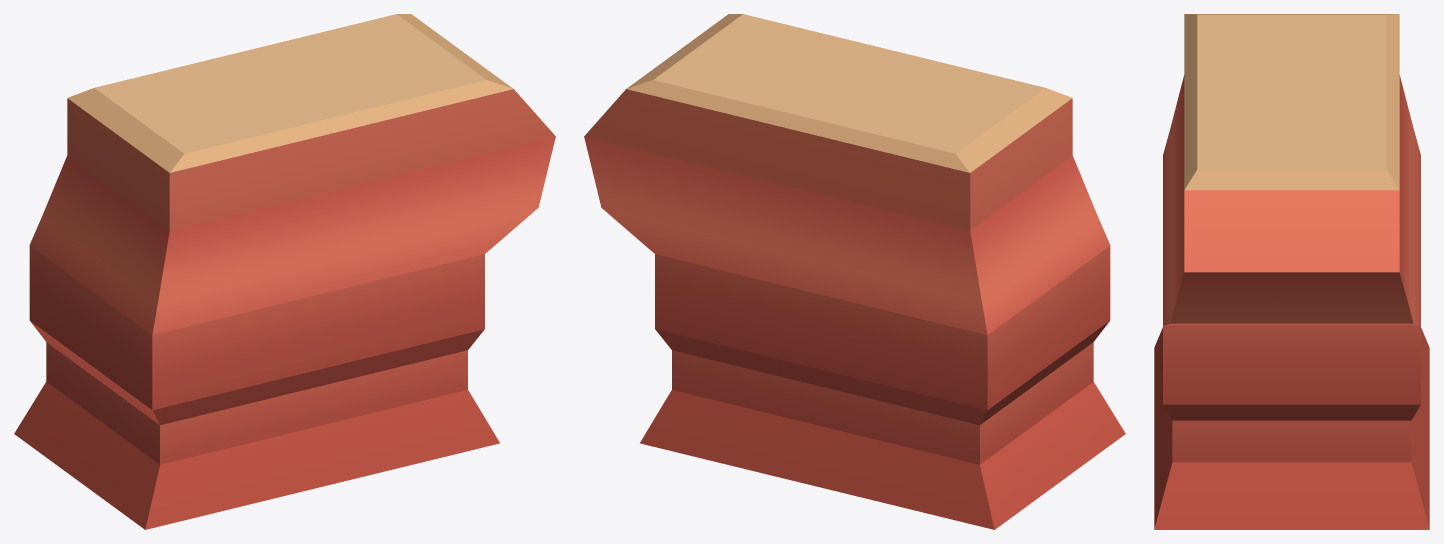
The model's file is StoneWall019.fbx.
The picture shows the model from 3 angles, left to right: view 1: azimuth 30°, elevation 25°; view 2: azimuth 150°, elevation 25°; view 3: azimuth 270°, elevation 25°; orthographic projection. The views are drawn at different scales.
Visible parts, largest first — view 1: StoneWall019; view 2: StoneWall019; view 3: StoneWall019.
Boxes of the visible parts, x1,y1,x2,y2 form: StoneWall019: (14,14,555,529); StoneWall019: (584,14,1125,529); StoneWall019: (1154,14,1429,529).
Bounding box in the file's own units: 619 × 482 × 331.
